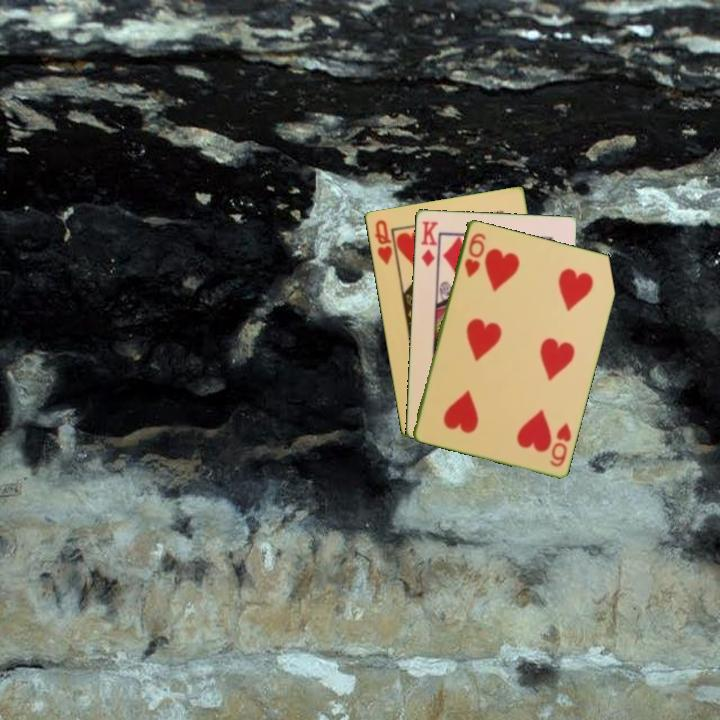6h: (461, 229, 489, 280), (546, 419, 574, 469)
Kd: (417, 217, 440, 269)
Qh: (371, 216, 395, 268)
